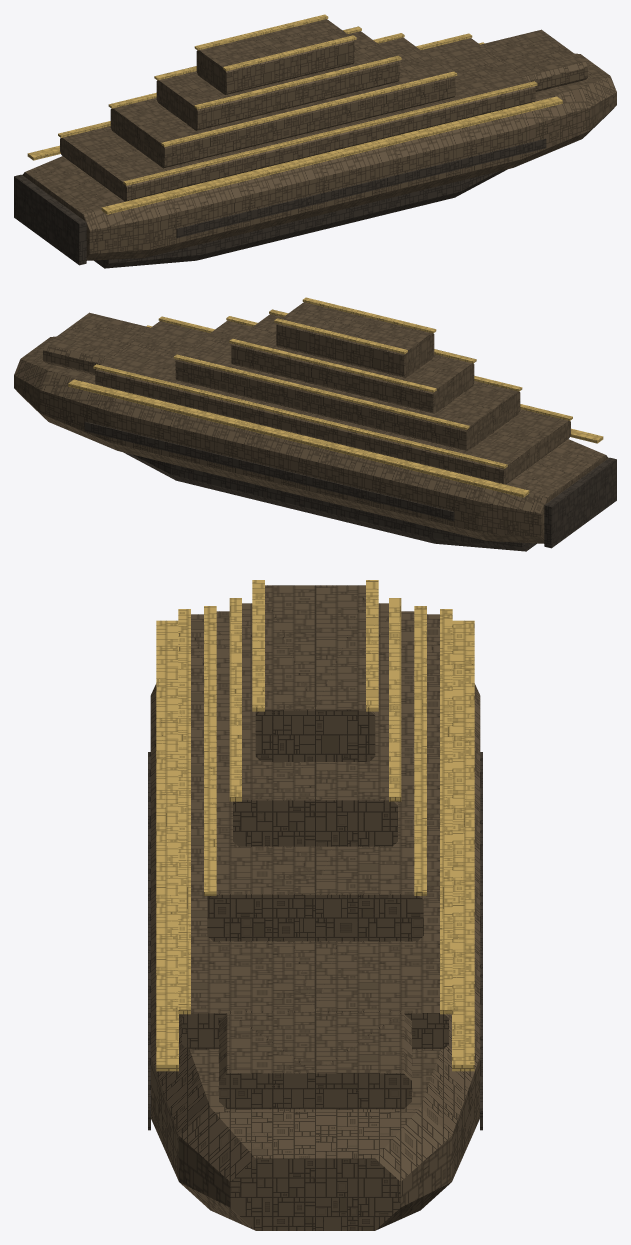
The model's file is powder_lod2.glb.
The picture shows the model from 3 angles, top to bottom: view 1: azimuth 30°, elevation 25°; view 2: azimuth 150°, elevation 25°; view 3: azimuth 270°, elevation 25°; orthographic projection. The views are drawn at different scales.
Parts seen in each view (by area): view 1: powder_lod2_body; view 2: powder_lod2_body; view 3: powder_lod2_body.
Boxes of the visible parts, x1=… form: powder_lod2_body: x1=14, y1=14, x2=616, y2=268; powder_lod2_body: x1=14, y1=297, x2=616, y2=551; powder_lod2_body: x1=148, y1=580, x2=482, y2=1230.
Bounding box in the file's own units: 22.3 × 6.83 × 5.89.
Materials: 1 (1 with a texture image).
